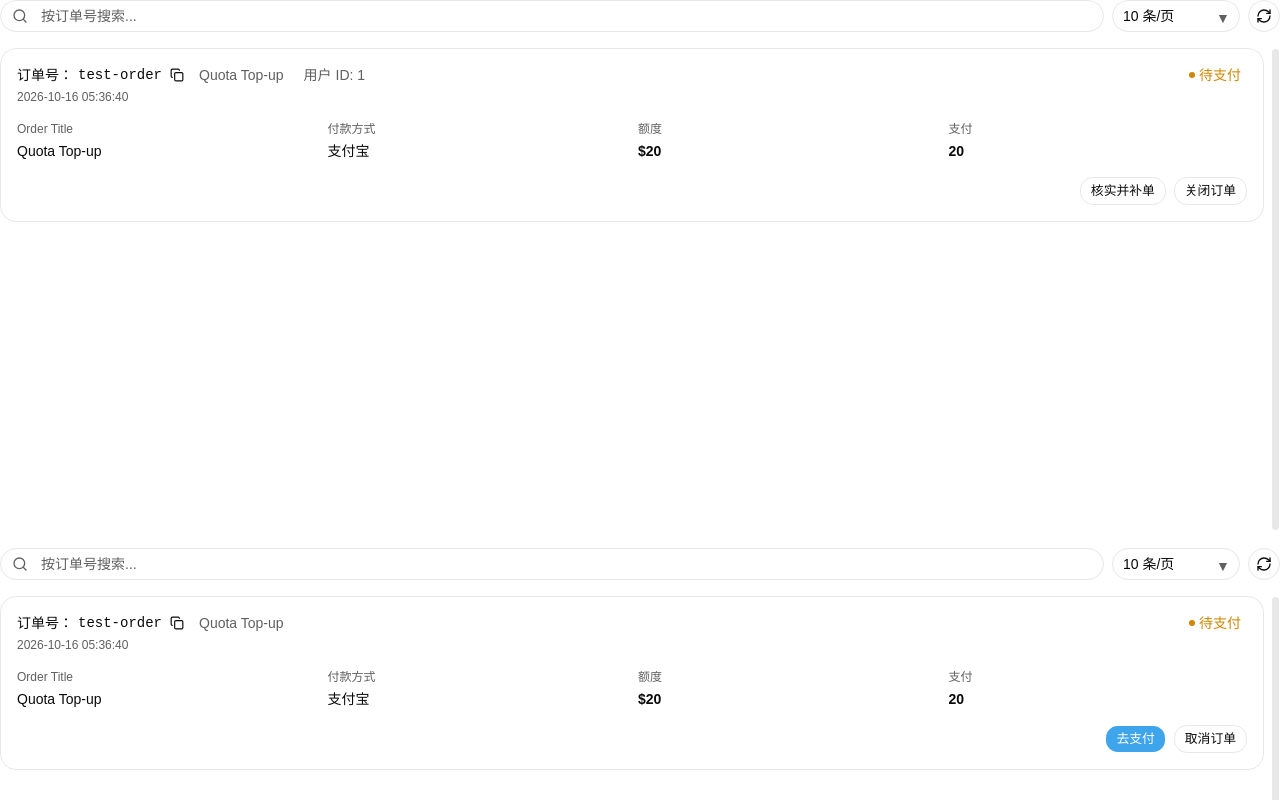
Test: cancels a personal order and synchronizes both the personal and admin lists
The width and height of the screenshot is (1280, 800).
expect the button "去支付" is enabled: met, box [1105,725,1166,753]
Click the button "取消订单" at (1210, 739), box [1174,725,1247,753]
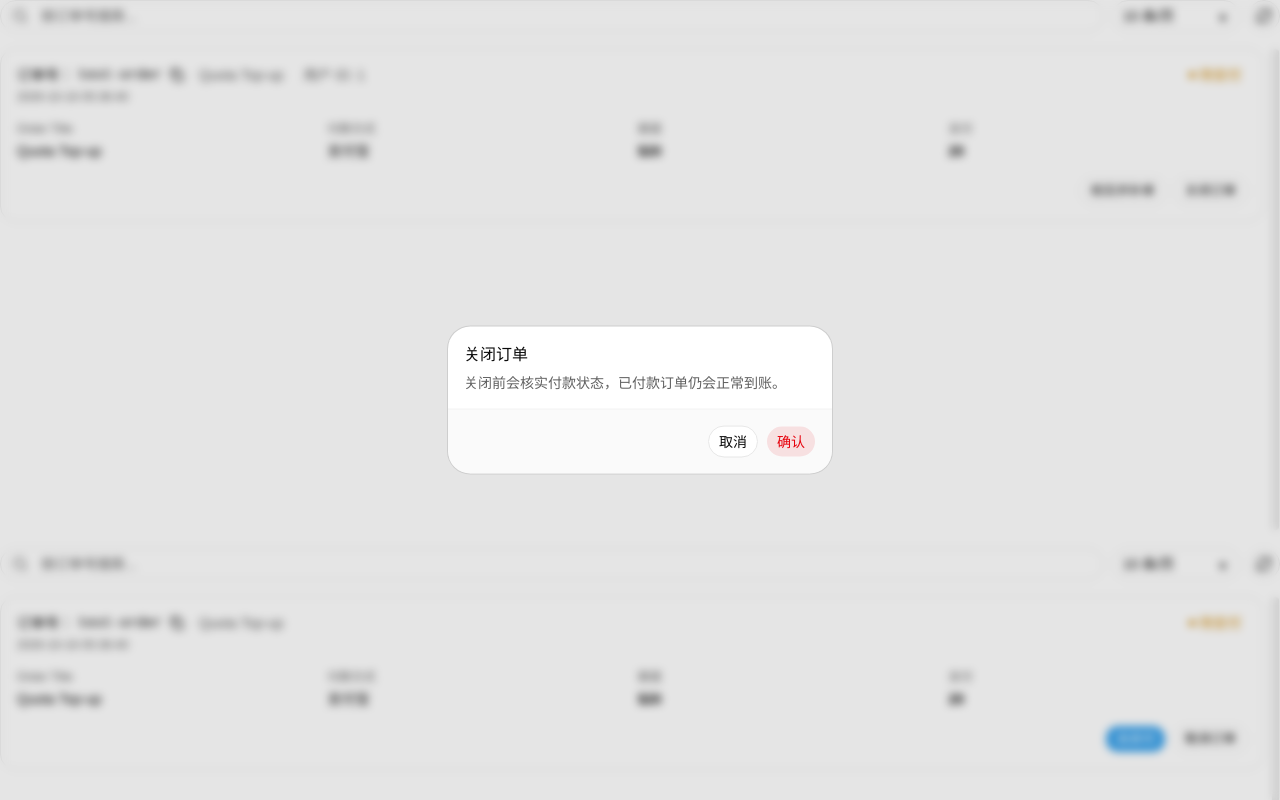
Click the button "确认" at (791, 442), box [766,426,816,458]
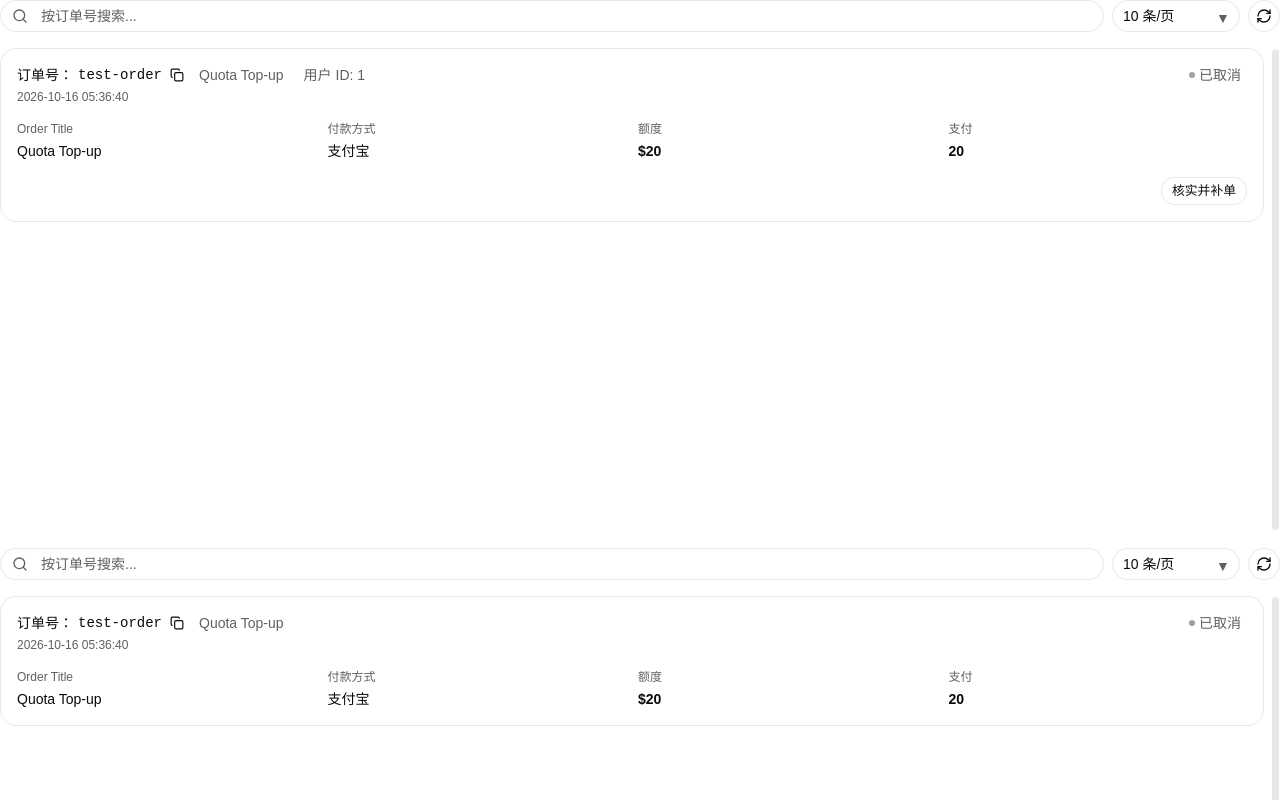
expect the text "已取消" is shown 2 times: met, box [1199,64,1241,86]; [1199,612,1241,634]
expect the button "去支付" is gone: met
